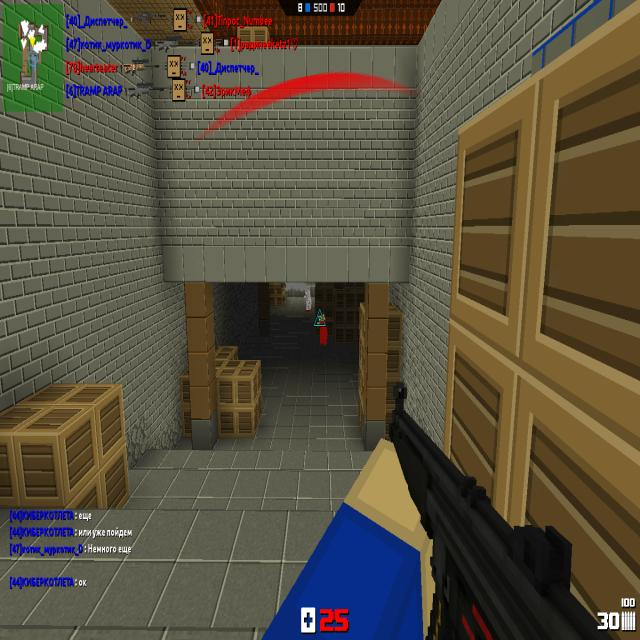enemy: (317, 313, 328, 347), (304, 286, 312, 312)
